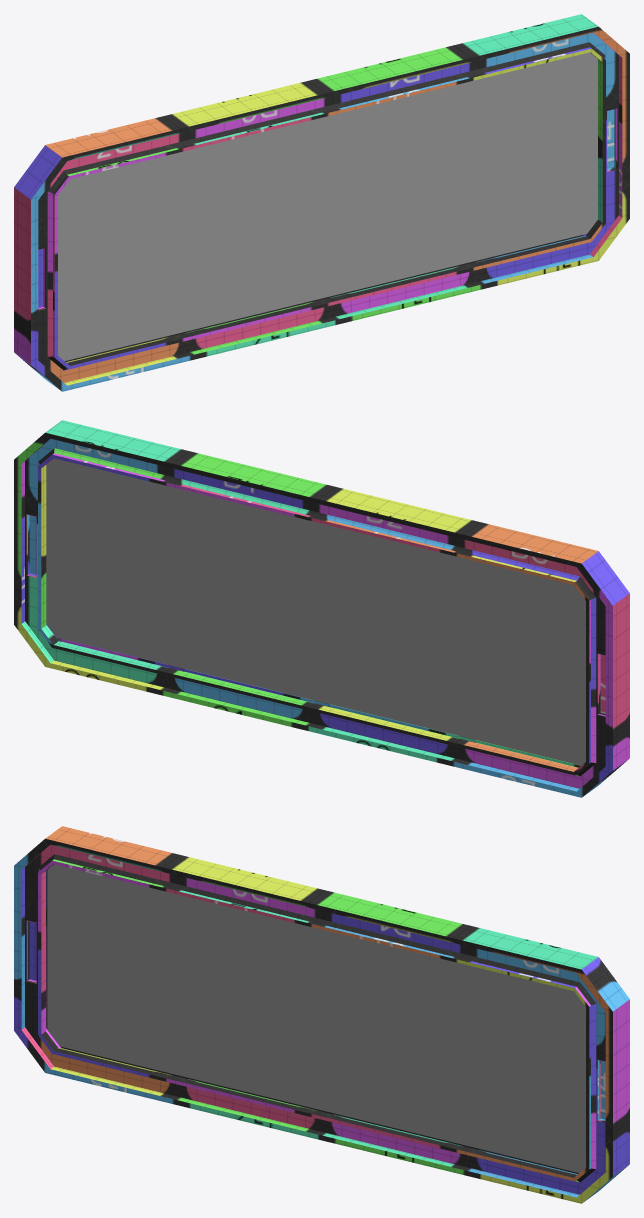
Rendered from Large Window.fbx.
3 renders of one model, top to bottom at view 1: azimuth 30°, elevation 25°; view 2: azimuth 150°, elevation 25°; view 3: azimuth 330°, elevation 25°, orthographic.
Parts seen in each view (by area): view 1: Window_Glass, Large_Window; view 2: Window_Glass, Large_Window; view 3: Window_Glass, Large_Window.
Boxes of the visible parts, x1,y1,x2,y2 form: Window_Glass: [58, 52, 597, 361]; Large_Window: [14, 14, 629, 391]; Window_Glass: [46, 458, 585, 765]; Large_Window: [14, 420, 629, 797]; Window_Glass: [47, 864, 585, 1173]; Large_Window: [14, 826, 629, 1203].
Bounding box in the file's own units: 2496 × 933 × 124.
